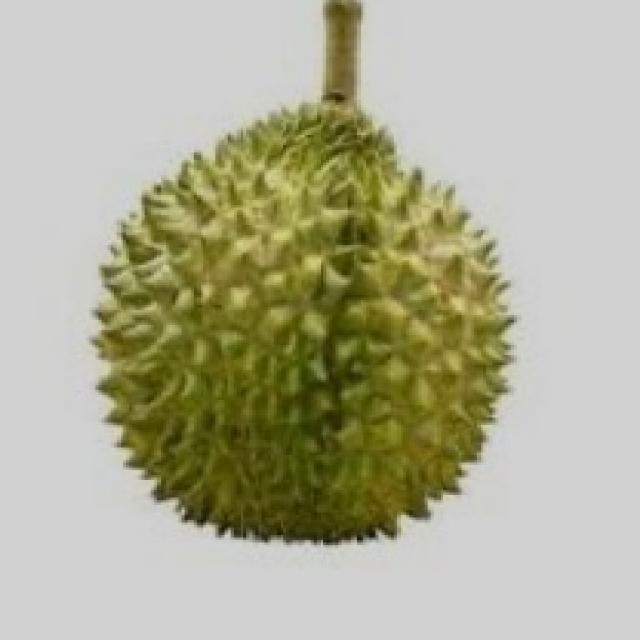fruit: (49, 242, 416, 592)
